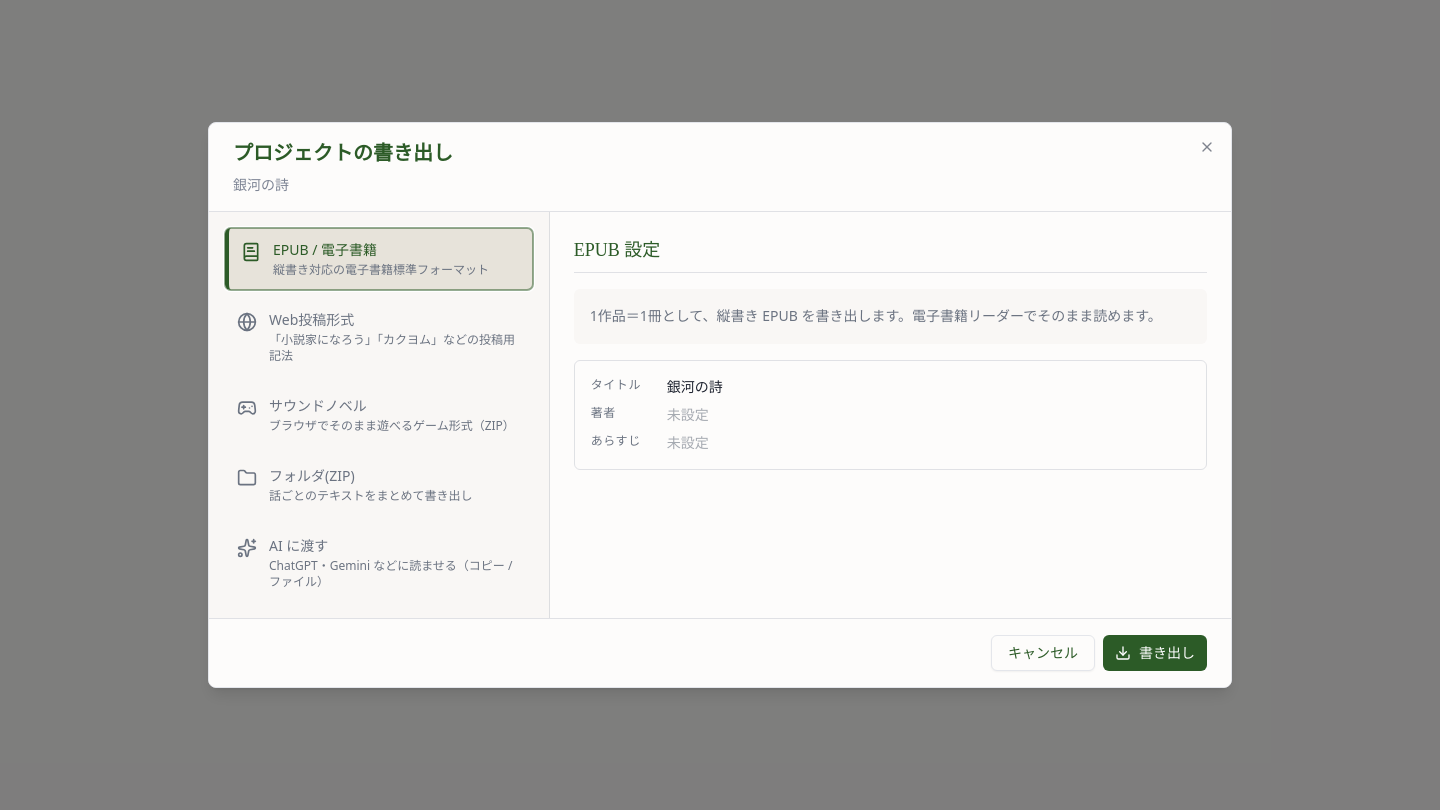
Test: ExportDialog（AI に渡す） › AI 形式を選ぶとコピー操作になり、本文をクリップボードへ書いて完了表示を出す
Click the text "AI に渡す": (299, 546) [269,536,328,555]
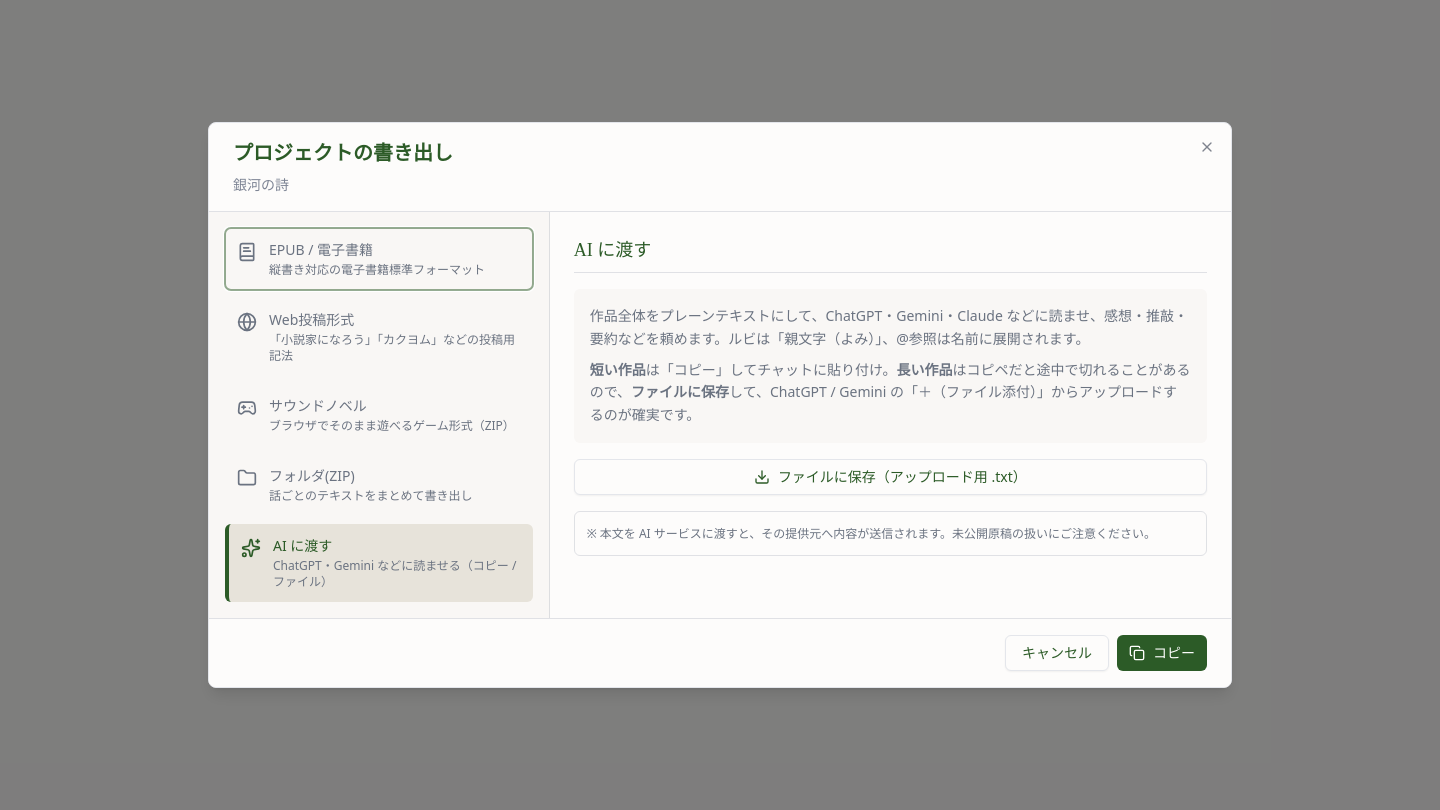
Click the button "コピー": (1162, 653) [1117,635,1207,671]
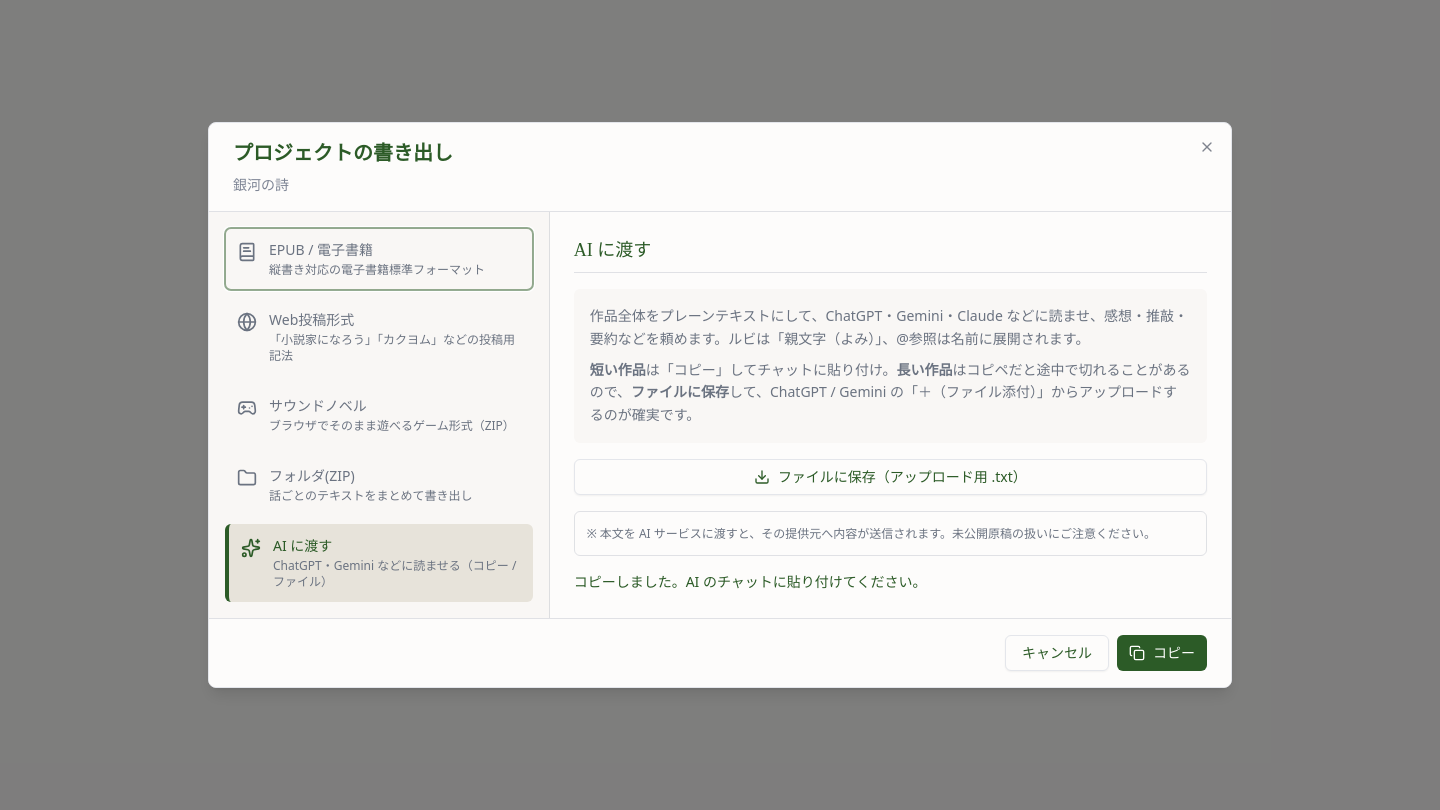
Result: the text "コピーしました。AI のチャットに貼り付けてください。" is shown at [574,572,926,591]
